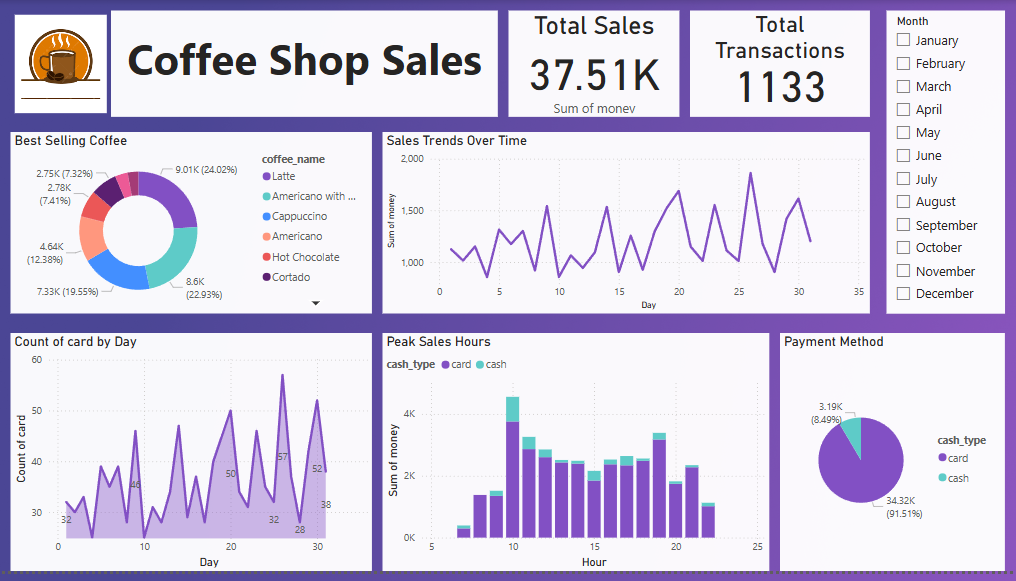

The dashboard page shown, as its layout file describes it:
{"tool":"powerbi","page":{"name":"Page 8","canvas":[1280,720],"ordinal":6},"visuals":[{"type":"image","box":[13.2,13.2,126.6,134.2],"z":0},{"type":"textbox","box":[139.8,13.2,487.6,134.2],"z":1000},{"type":"card","title":"Total Sales","fields":{"Values":["Sum(index.money)"]},"box":[640.6,13.2,215.4,134.2],"z":2000},{"type":"card","title":"Total Transactions","fields":{"Values":["CountNonNull(index.card)"]},"box":[869.3,13.2,226.8,134.2],"z":3000},{"type":"slicer","fields":{"Values":["index.date.Variation.Date Hierarchy.Month"]},"box":[1116.9,13.2,149.3,381.7],"z":4000},{"type":"donutChart","title":"Best Selling Coffee","fields":{"Category":["index.coffee_name"],"Y":["Sum(index.money)"]},"box":[13.2,166.3,455.4,228.7],"z":5000},{"type":"lineChart","title":"Sales Trends Over Time","fields":{"Category":["index.date.Variation.Date Hierarchy.Year","index.date.Variation.Date Hierarchy.Quarter","index.date.Variation.Date Hierarchy.Month","index.date.Variation.Date Hierarchy.Day"],"Y":["Sum(index.money)"]},"box":[481.9,166.3,614.2,228.7],"z":6000},{"type":"pieChart","title":"Payment Method","fields":{"Category":["index.cash_type"],"Y":["Sum(index.money)"]},"box":[982.7,419.5,283.5,300.5],"z":7000},{"type":"columnChart","title":"Peak Sales Hours","fields":{"Y":["Sum(index.money)"],"Series":["index.cash_type"],"Category":["index.Hour"]},"box":[481.9,419.5,487.6,300.5],"z":8000},{"type":"stackedAreaChart","fields":{"Category":["index.date.Variation.Date Hierarchy.Year","index.date.Variation.Date Hierarchy.Quarter","index.date.Variation.Date Hierarchy.Month","index.date.Variation.Date Hierarchy.Day"],"Y":["CountNonNull(index.card)"]},"box":[13.2,419.5,455.4,300.5],"z":8001}]}

Visuals, with their boxes in screenshot pixels (x1, y1, x2, y2), scaled from the page's 1280x720 canvas onto the 1016x581 screenshot:
image: 10:11:111:119
textbox: 111:11:498:119
"Total Sales" card: 508:11:679:119
"Total Transactions" card: 690:11:870:119
slicer - index.date.Variation.Date Hierarchy.Month: 887:11:1005:319
"Best Selling Coffee" donutChart: 10:134:372:319
"Sales Trends Over Time" lineChart: 383:134:870:319
"Payment Method" pieChart: 780:339:1005:580
"Peak Sales Hours" columnChart: 383:339:770:580
stackedAreaChart - index.date.Variation.Date Hierarchy.Year x index.date.Variation.Date Hierarchy.Quarter: 10:339:372:580
